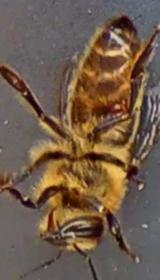varroa_mite: (97, 92, 133, 121)
